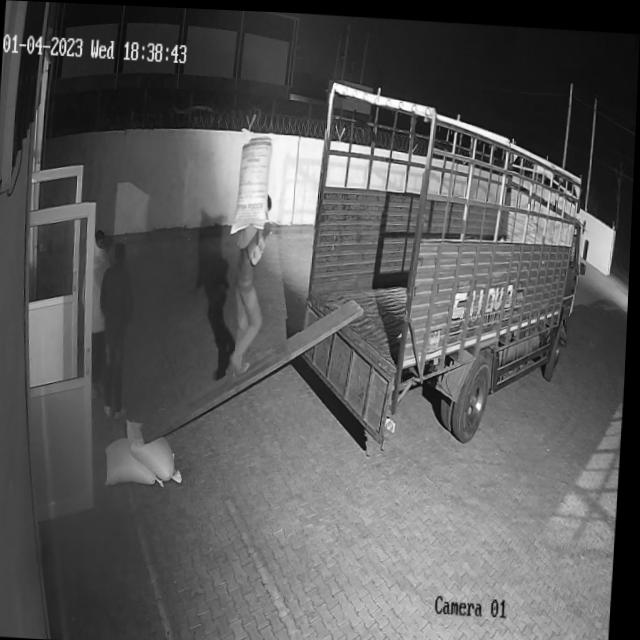sack: (231, 131, 275, 235), (126, 417, 188, 481), (106, 433, 168, 484)
